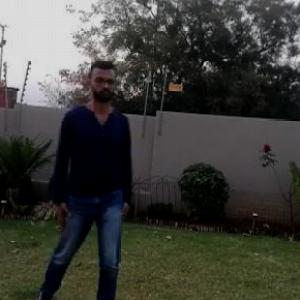follow: (58, 60, 140, 299)
